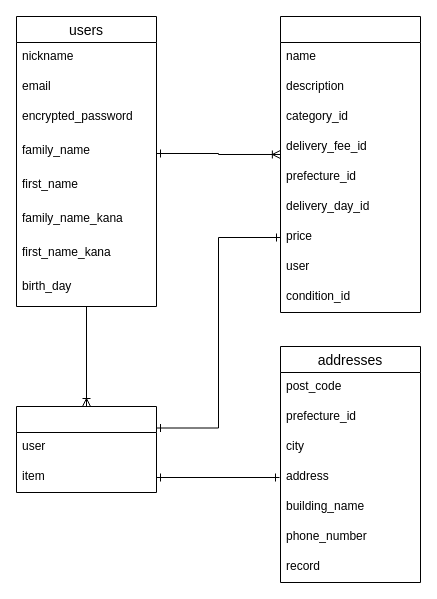
This 437x599 diagram has some shape labels left out. Here are the shapes that lost their labels. From the top down, the box of each, then its label:
(280, 16, 420, 312): items
(16, 406, 156, 492): records
